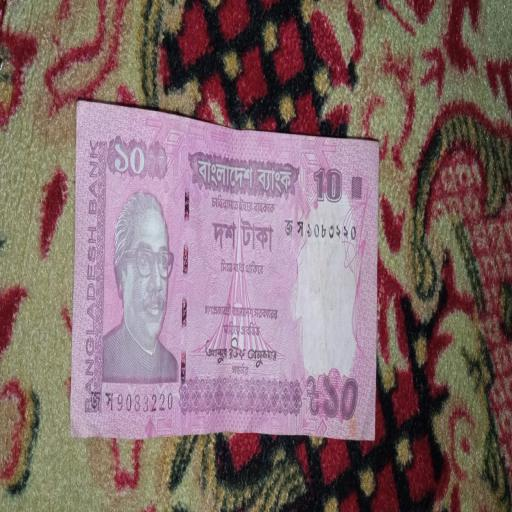10taka: (72, 105, 380, 441)
